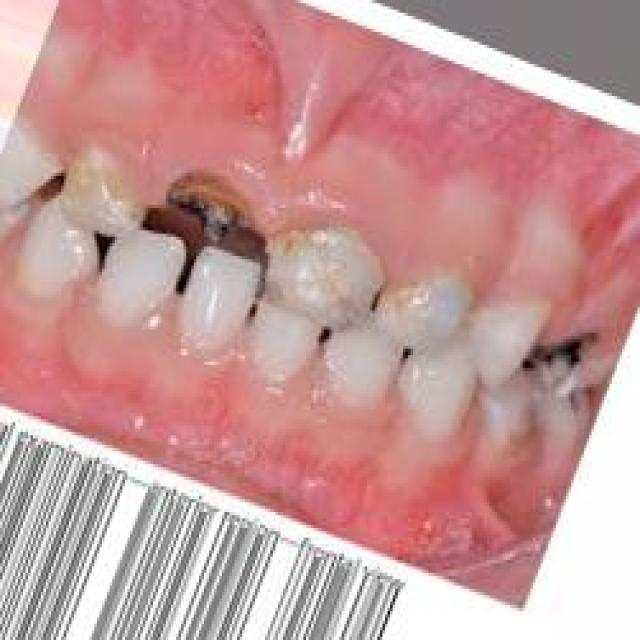caries: (272, 221, 380, 327), (168, 159, 258, 257), (58, 142, 139, 238), (529, 315, 612, 407)
